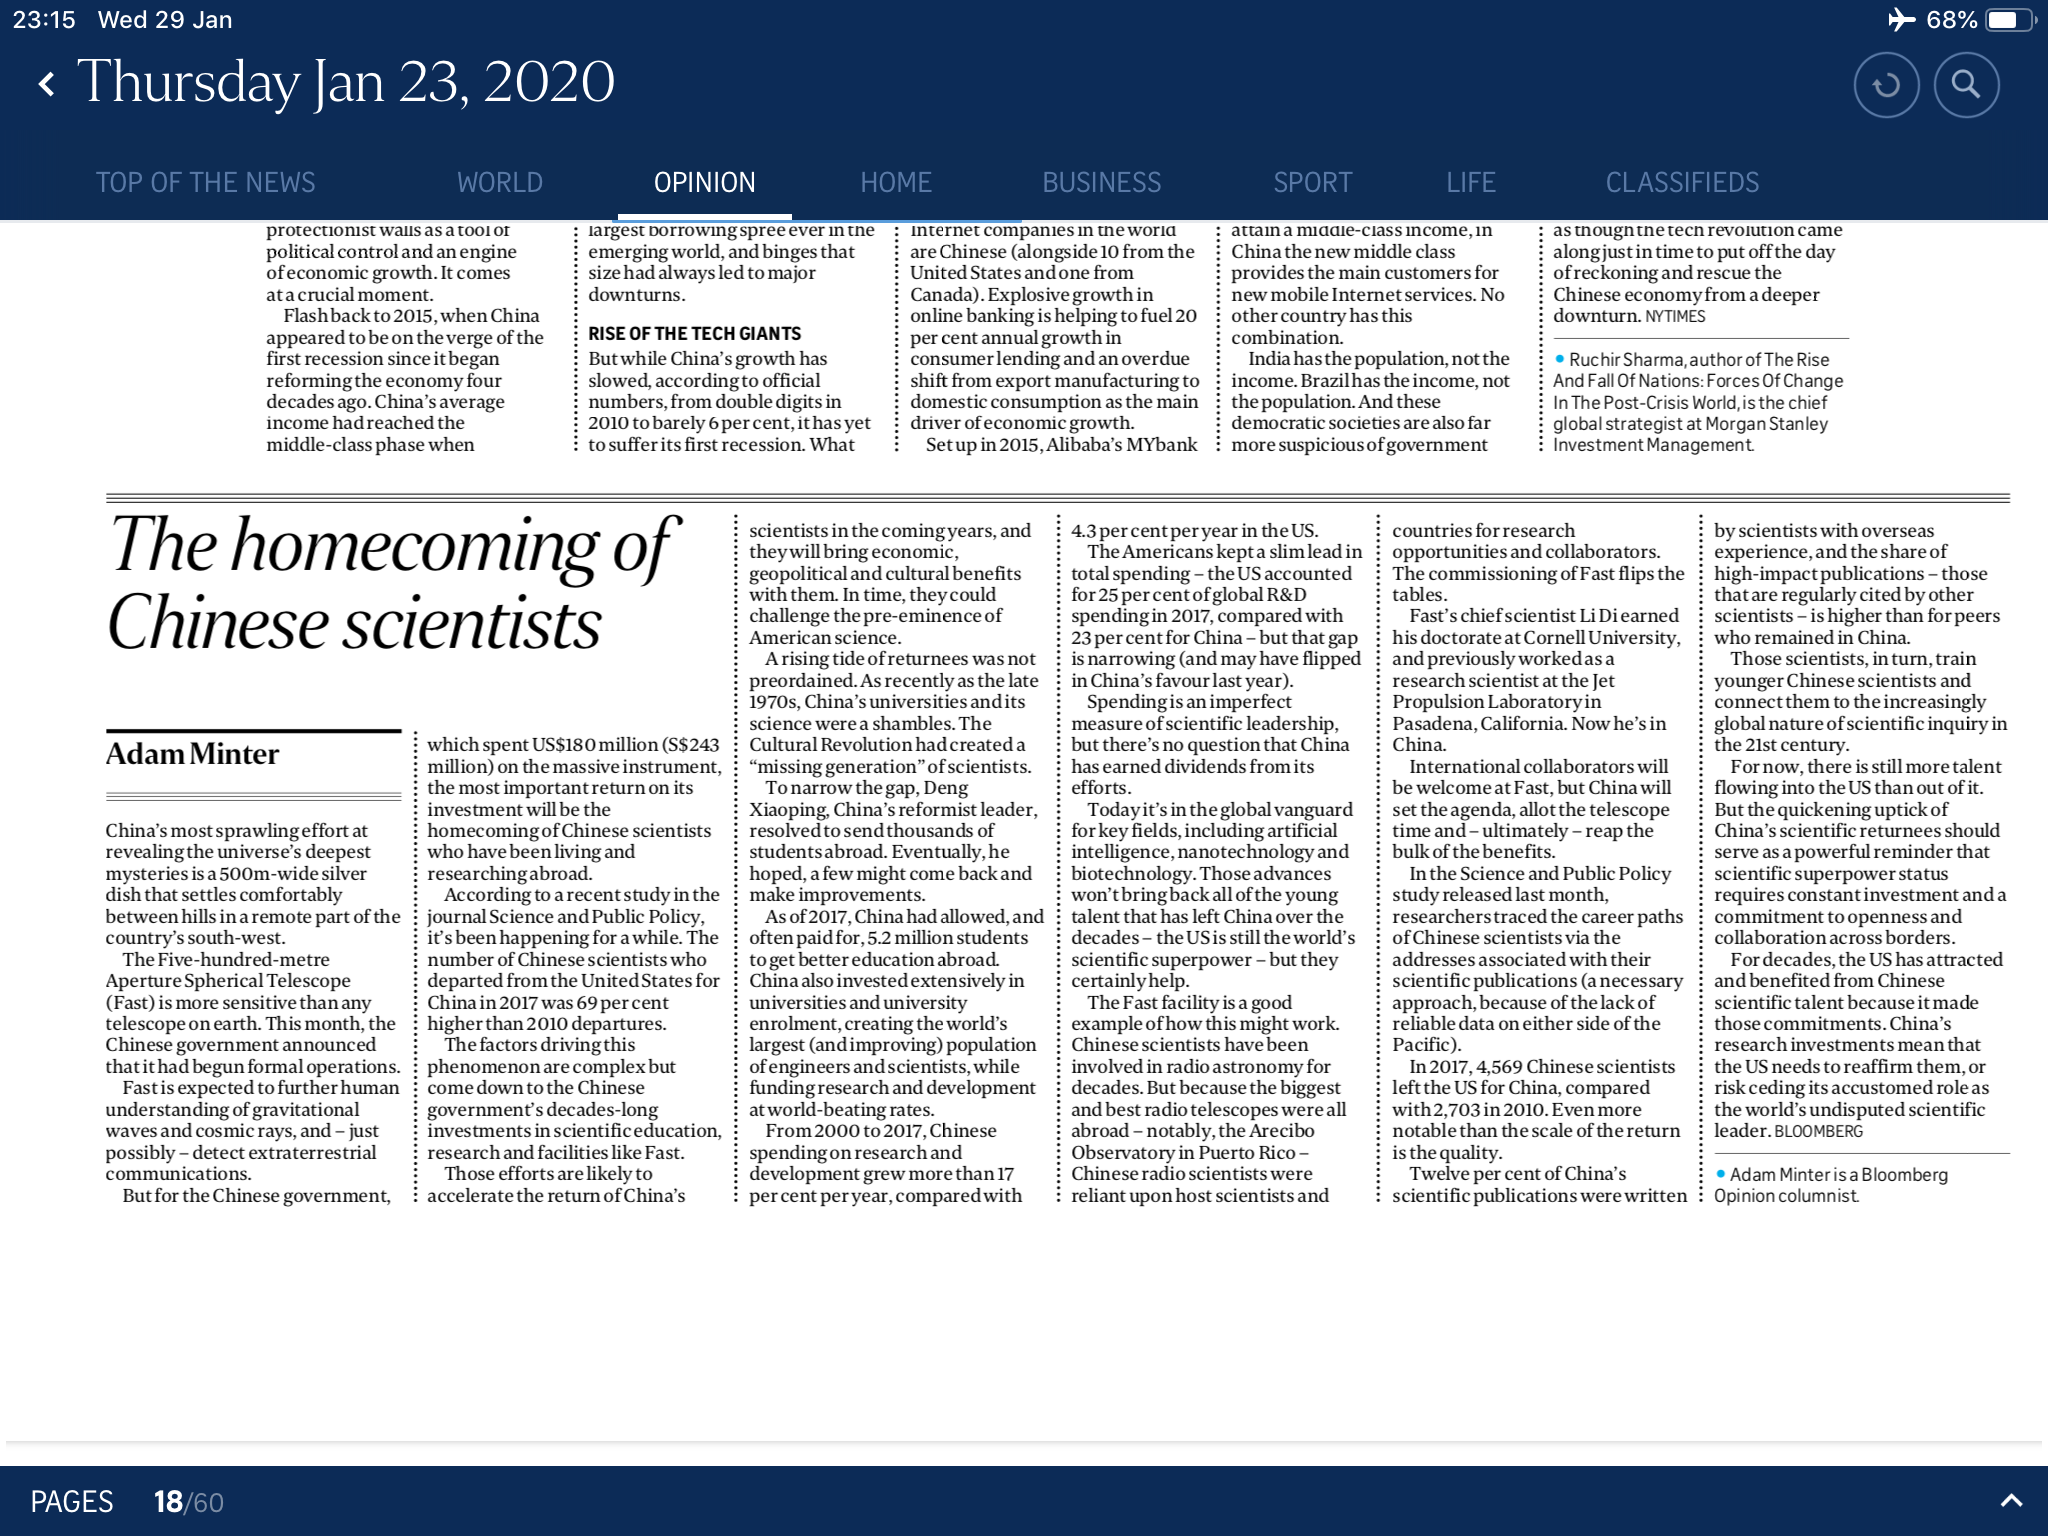Byline: (102, 737, 281, 770)
Headline: (108, 510, 693, 655)
Text: (747, 520, 1047, 1204), (1068, 518, 1367, 1202), (1388, 523, 1688, 1205), (1708, 511, 2004, 1142), (423, 736, 726, 1205), (103, 821, 402, 1212), (905, 223, 1205, 455), (1227, 218, 1514, 453), (261, 223, 545, 457), (589, 223, 872, 457), (1551, 219, 1846, 331)
